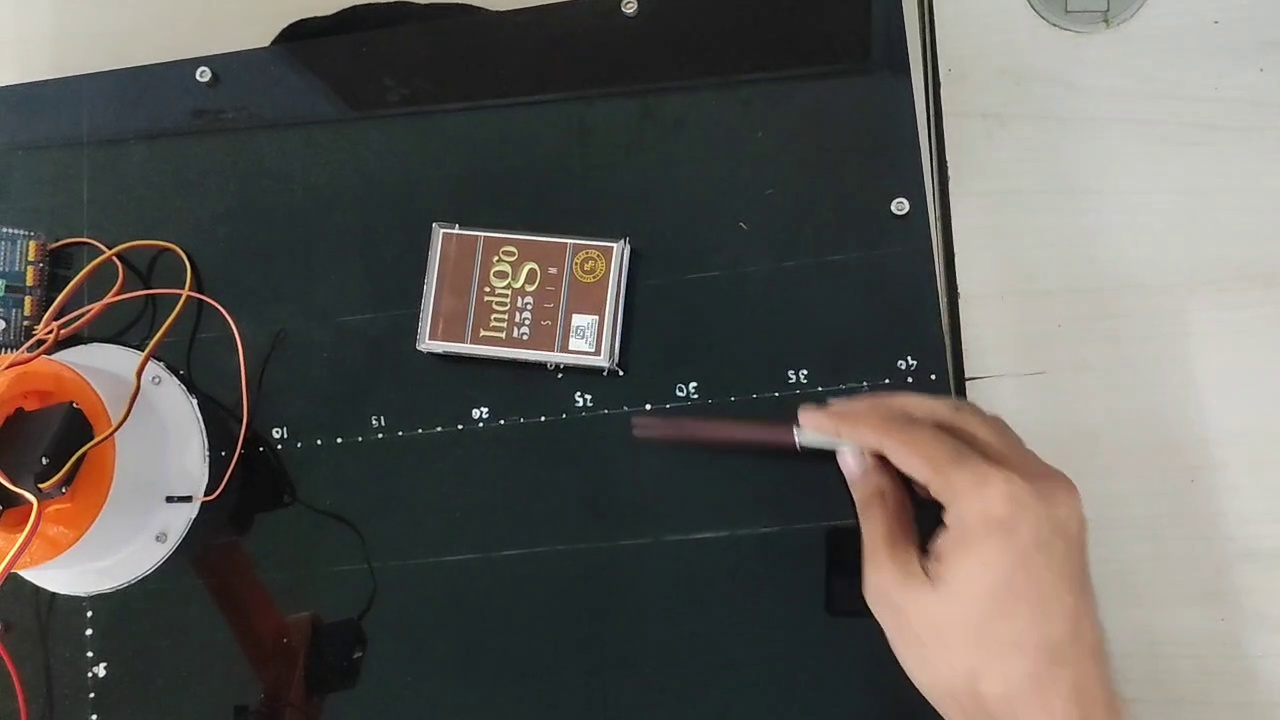BEX: (428, 230, 617, 356)
